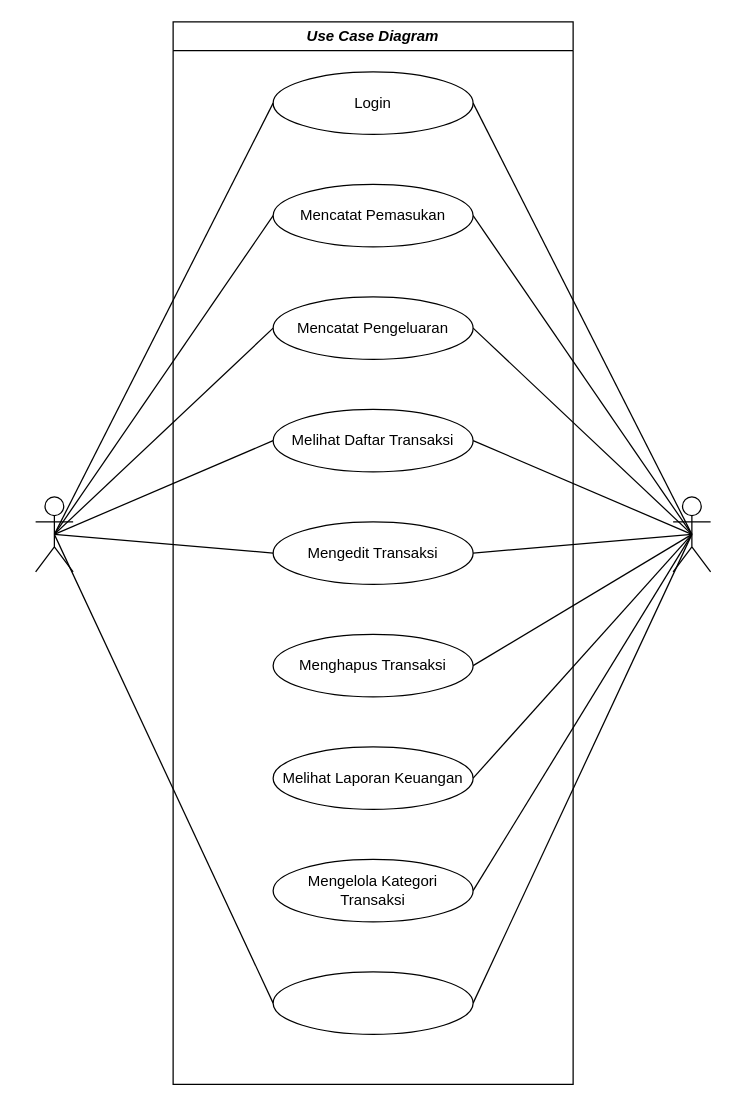
This 738x1106 diagram has some shape labels left out. The box of each missing label's shape, as (x1, y1, x2, y2) in pixels:
Karyawan: (34, 496, 73, 572)
Logout: (272, 971, 473, 1034)
Pemilik: (672, 496, 711, 572)
